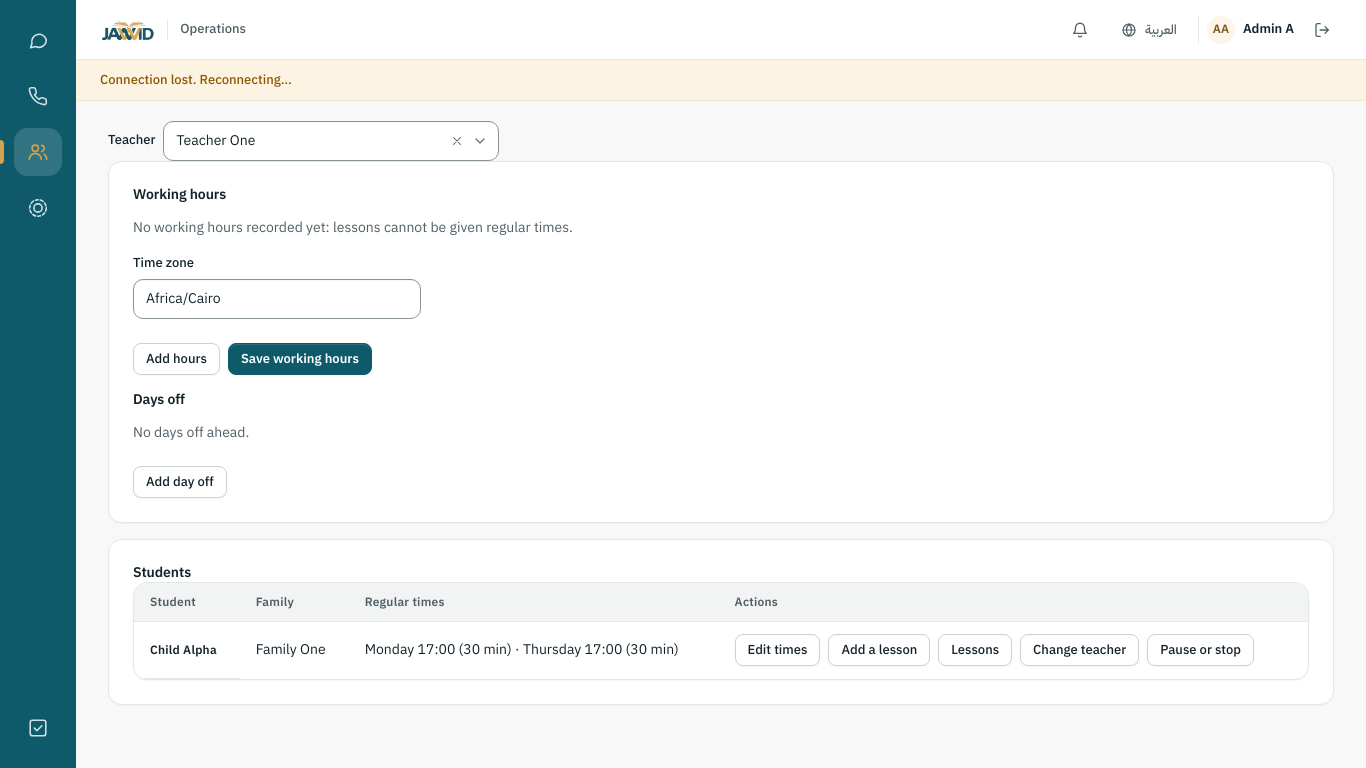
it: Schedules › Lessons (move one lesson) › lists the next four weeks; Move picks a free chip, reads previous → new, and moves only that lesson
(page scrolled)
What coordinates should you click on to do the following:
click the button "Lessons"
I would click on:
 (975, 650)
Its box is [938,634,1012,666].
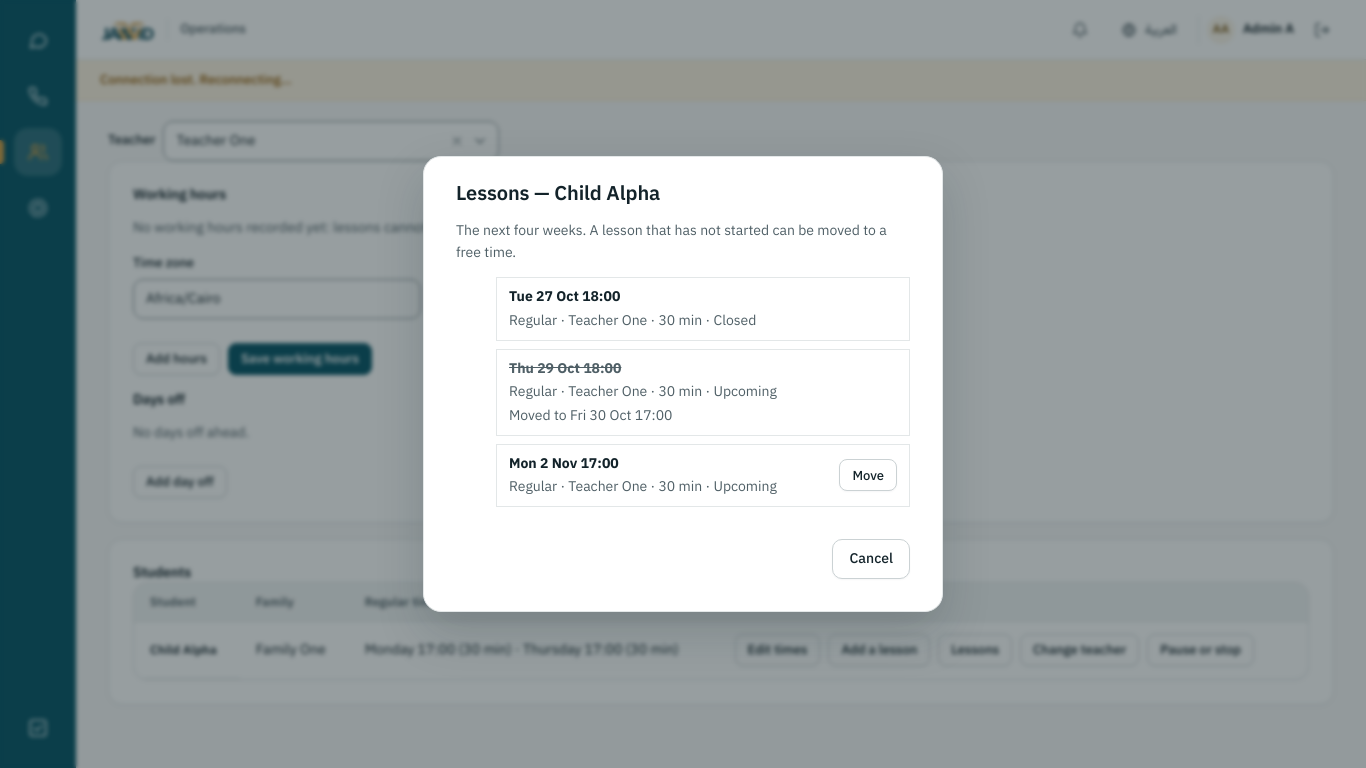
Expected: the text "Moved to Fri 30 Oct 17:00" is shown, [509,405,672,426]
Expected: the number of buttons "Move" is 1
What coordinates should you click on to do the following:
click the button with aria-label "Move Mon 2 Nov 17:00"
I would click on:
 (868, 475)
Its box is [839,459,897,491].
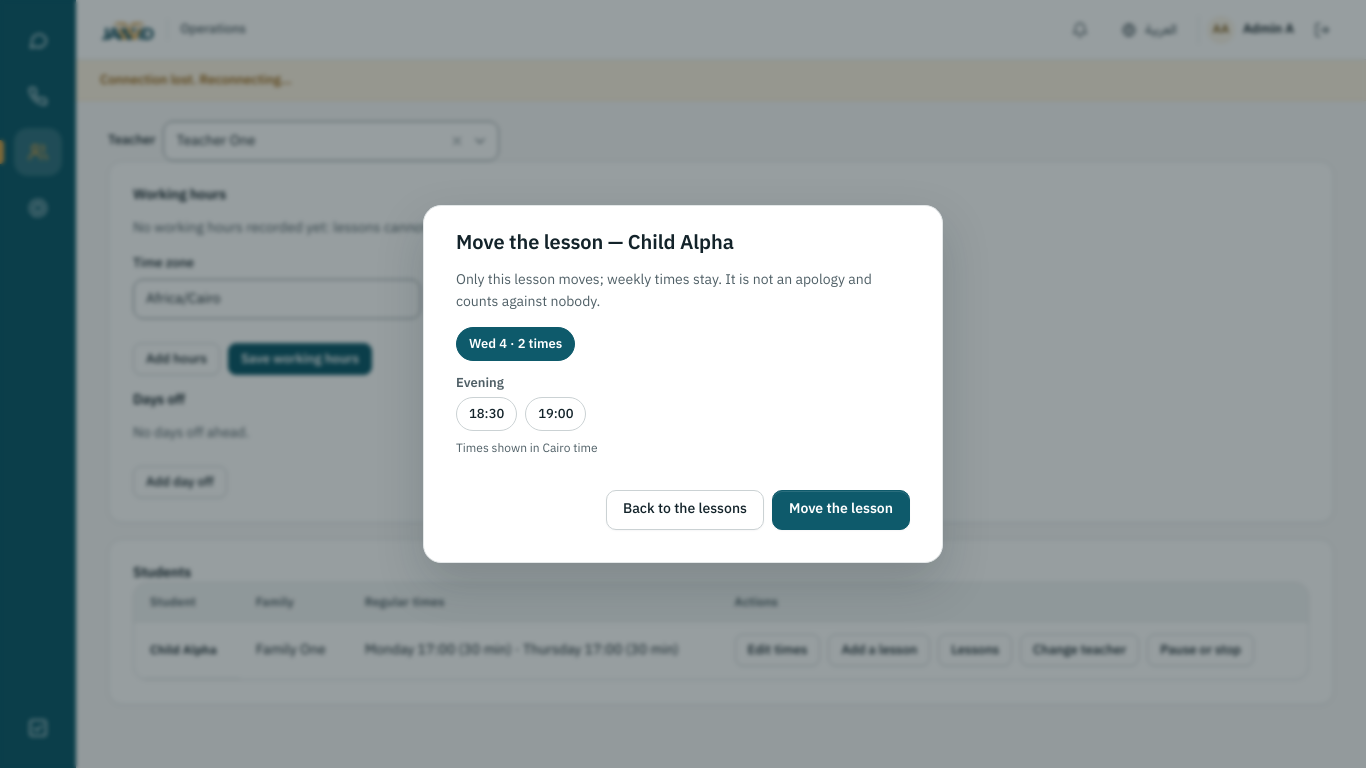
What coordinates should you click on to do the following:
click the radio button labelled "18:30"
I would click on:
 (487, 414)
Its box is [456,397,517,431].
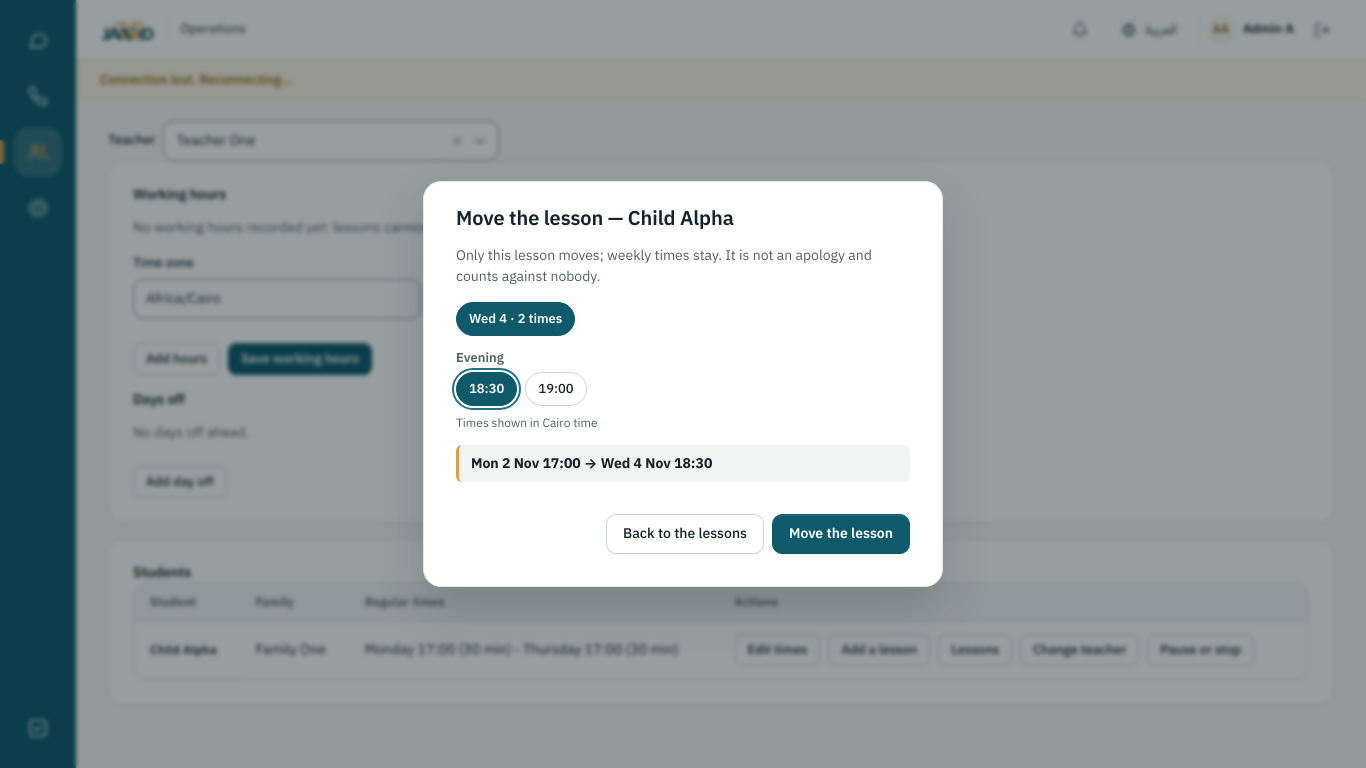
Expected: the element with test id "pick-summary" reads "Mon 2 Nov 17:00 → Wed 4 Nov 18:30", [471,453,712,474]
What coordinates should you click on to do the following:
click the button "Move the lesson"
I would click on:
 (841, 534)
Its box is [772,514,910,554].
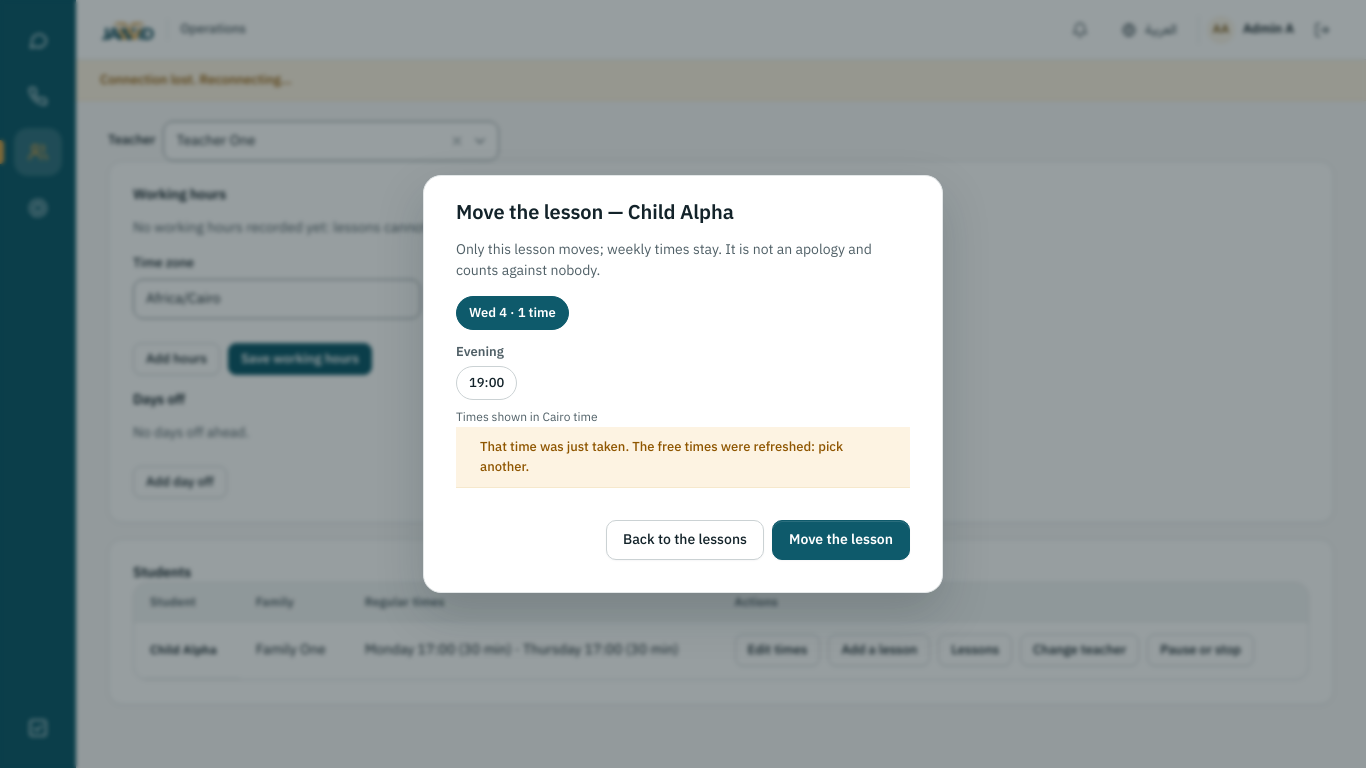
Expected: the text "That time was just taken. The free times were refreshed: pick another." is shown, [456,427,910,488]
Expected: the radio button labelled "18:30" is gone
What coordinates should you click on to do the following:
click the radio button labelled "19:00"
I would click on:
 (487, 383)
Its box is [456,366,517,400].
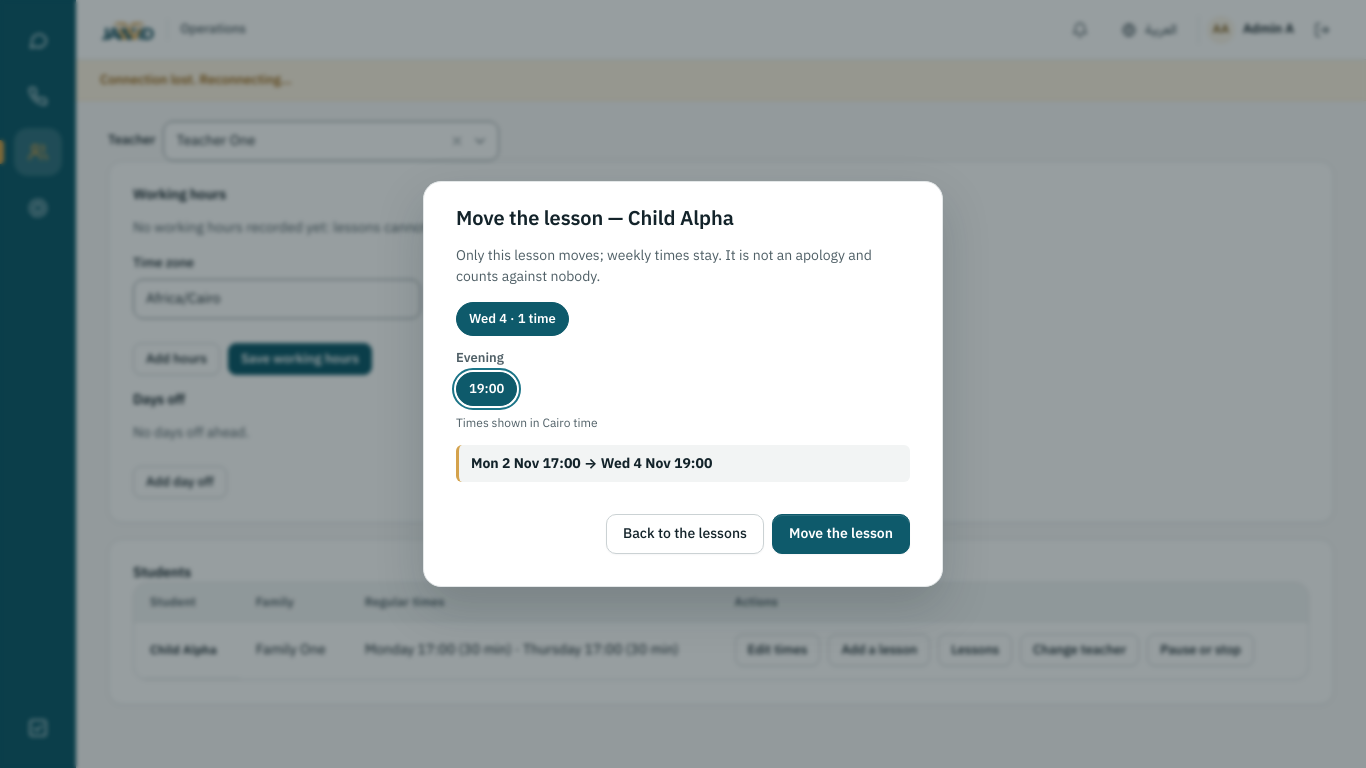
What coordinates should you click on to do the following:
click the button "Move the lesson"
I would click on:
 (841, 534)
Its box is [772,514,910,554].
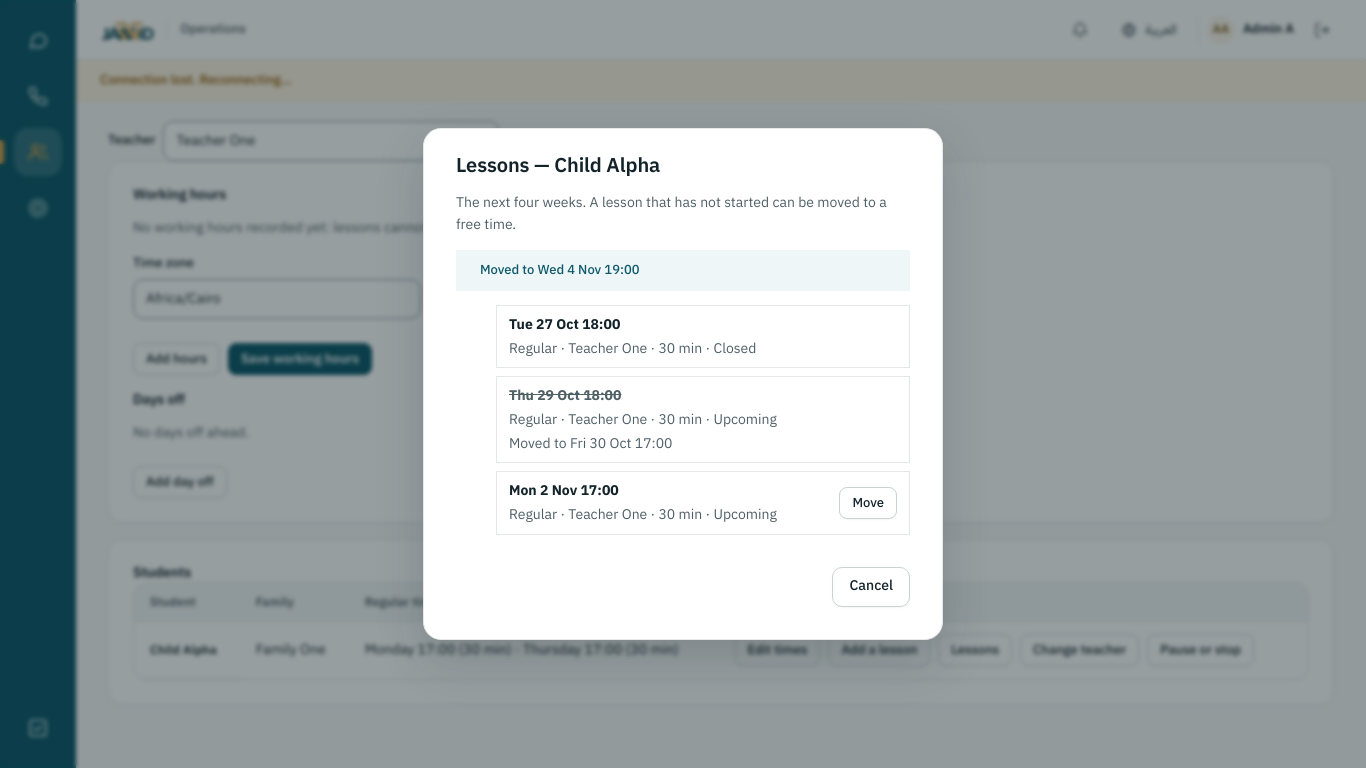
Expected: the text "Moved to Wed 4 Nov 19:00" is shown, [456,250,910,291]
